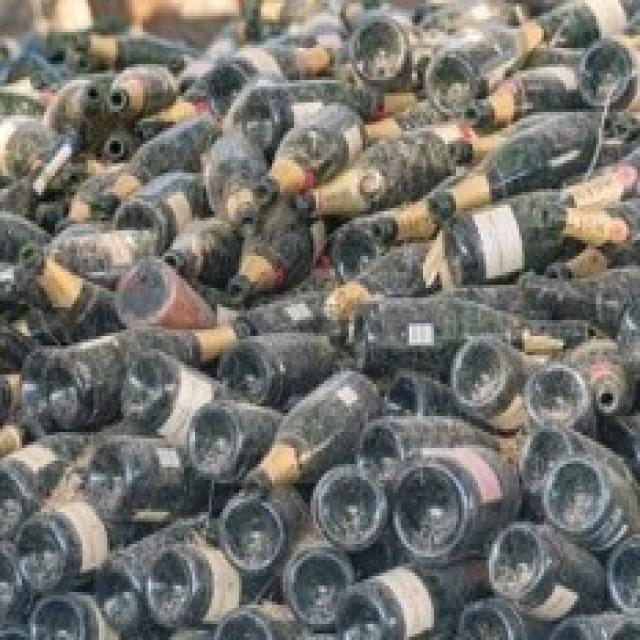electronic: (387, 435, 527, 567), (251, 100, 373, 206), (115, 346, 232, 452), (182, 395, 287, 494), (306, 464, 384, 564), (524, 360, 599, 451)
